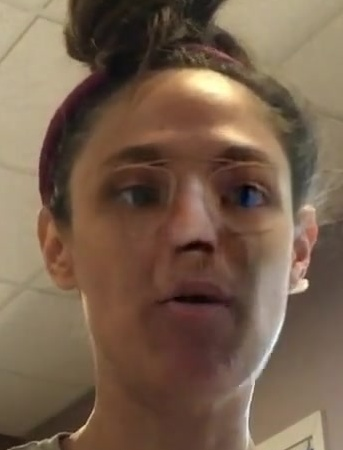n_f: (160, 165, 221, 260)
